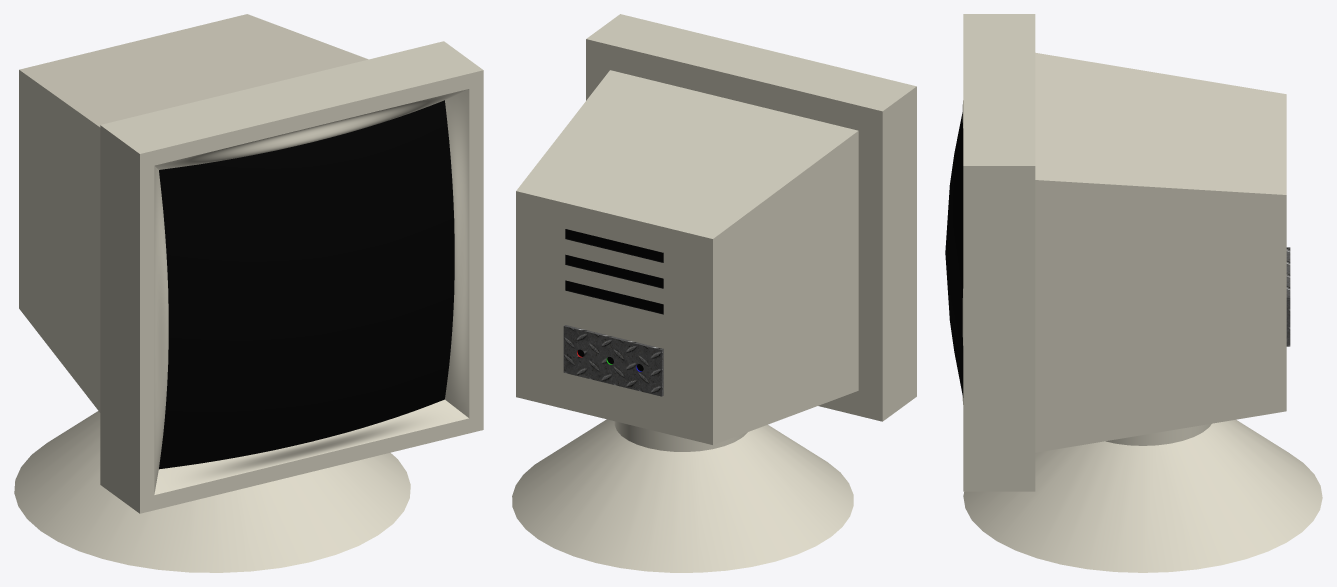
File: Computer Screen Tube.dae
3 renders of one model, left to right at view 1: azimuth 30°, elevation 25°; view 2: azimuth 150°, elevation 25°; view 3: azimuth 270°, elevation 25°, orthographic. The views are drawn at different scales.
Visible parts, largest first — view 1: Reference_1; view 2: Reference_1; view 3: Reference_1.
Part boxes in pixels (box(x1,y1,x2,y2)): Reference_1: box(14, 14, 483, 572); Reference_1: box(512, 14, 916, 572); Reference_1: box(945, 14, 1322, 572).
Size of the model in its own units: 200 by 210 by 250.
6 materials, 1 textured.
